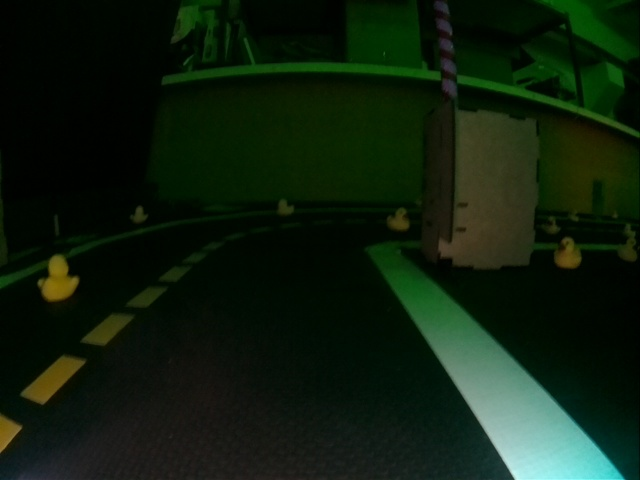Duckie: (40, 256, 76, 298), (552, 236, 582, 270), (385, 208, 408, 230), (617, 240, 637, 262), (541, 217, 560, 235), (129, 207, 146, 223), (278, 200, 294, 214), (624, 226, 635, 238), (612, 211, 620, 220), (570, 214, 577, 222)
